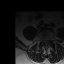CCS_normal: (45, 39, 47, 47)
LFS_severe_stenosis: (49, 38, 51, 43)
LLS_normal: (47, 39, 49, 45)
RFS_stenosis: (41, 38, 43, 43)
RLS_stenosis: (43, 39, 45, 44)
